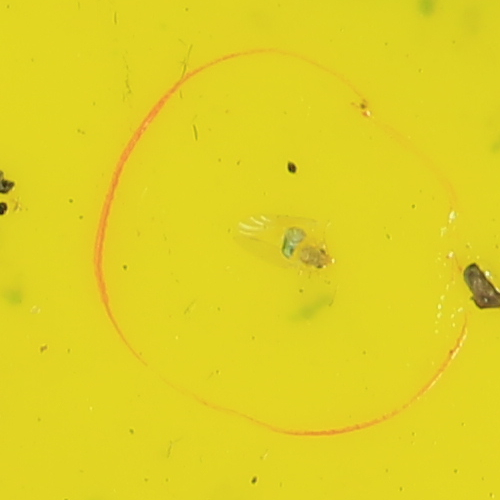Glycaspis: (299, 247, 339, 270)
